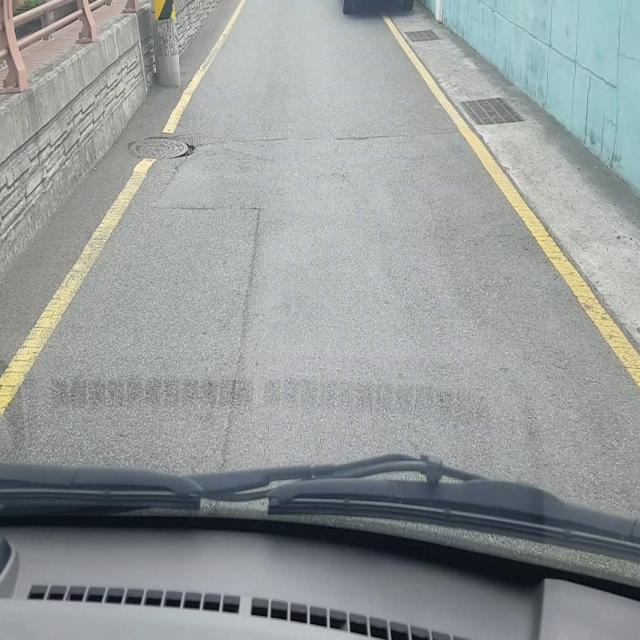Pothole: (128, 136, 196, 160)
